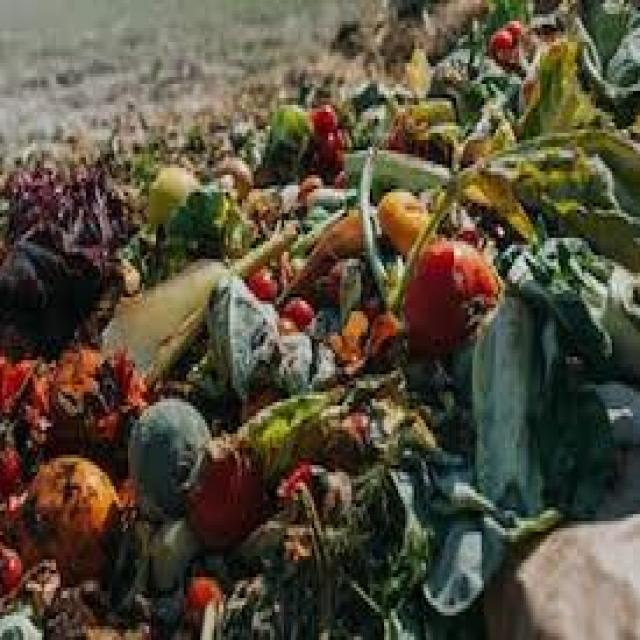Wet: (0, 70, 640, 640), (396, 228, 504, 367)
